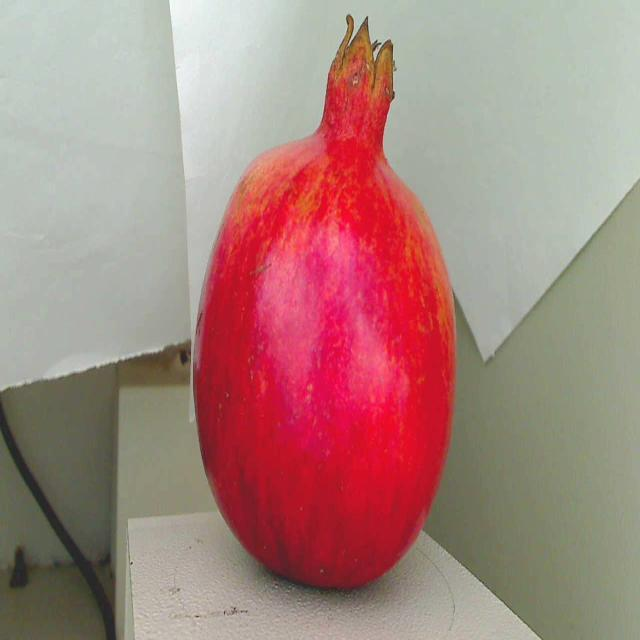pomegranate: (183, 20, 468, 608)
